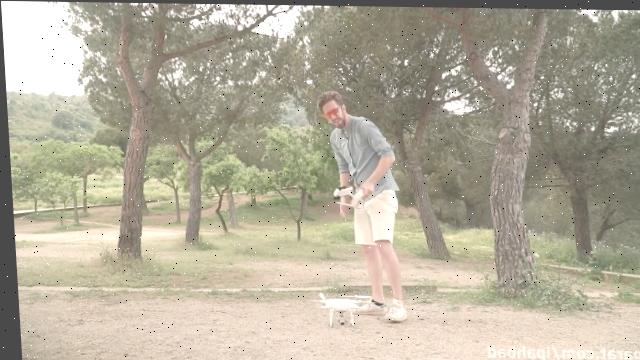drone: (308, 287, 367, 328)
